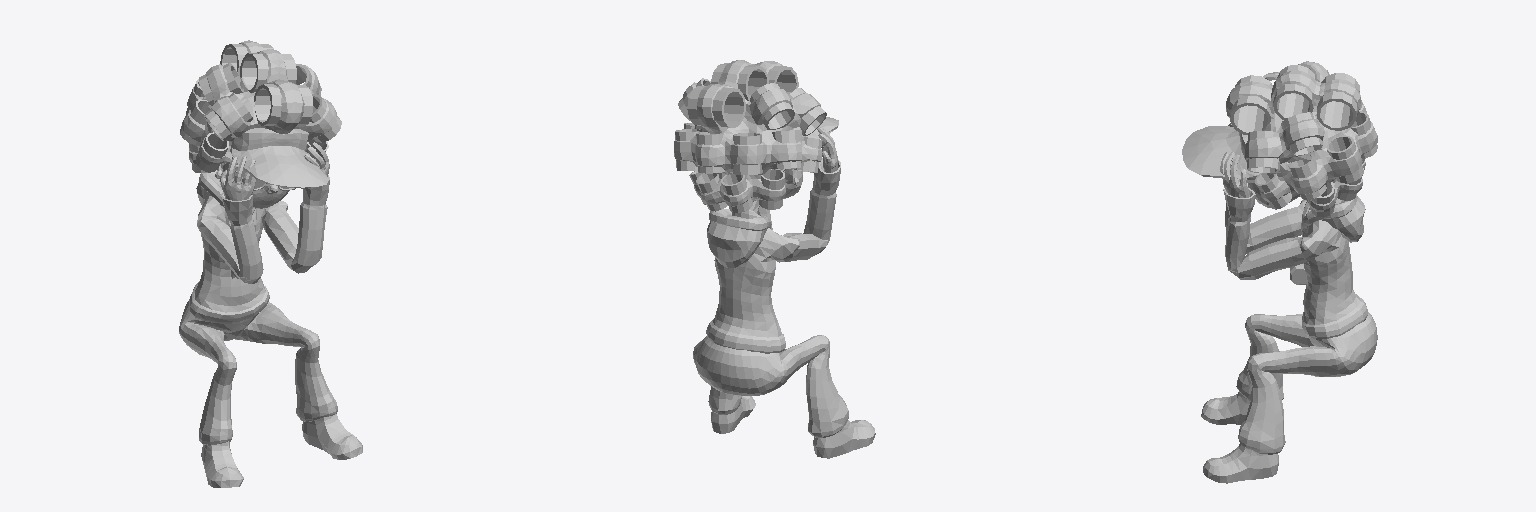
File: humano_mom_13.obj
3 renders of one model, left to right at view 1: azimuth 30°, elevation 25°; view 2: azimuth 150°, elevation 25°; view 3: azimuth 270°, elevation 25°, orthographic.
Visible parts, largest first — view 1: Fitness_Grandma_BodyGeo; view 2: Fitness_Grandma_BodyGeo; view 3: Fitness_Grandma_BodyGeo.
Boxes of the visible parts, x1,y1,x2,y2 form: Fitness_Grandma_BodyGeo: [179, 40, 362, 487]; Fitness_Grandma_BodyGeo: [674, 60, 875, 458]; Fitness_Grandma_BodyGeo: [1182, 61, 1377, 483].
Bounding box in the file's own units: 0.4651 × 1.14 × 0.5228.